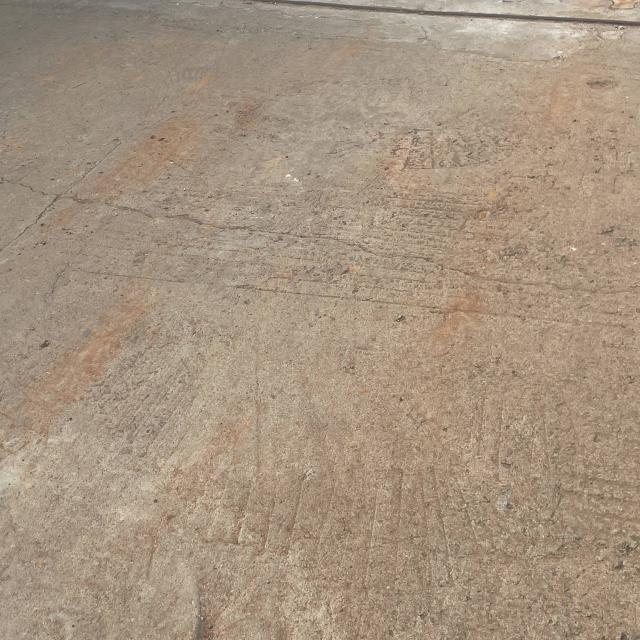D11: (81, 131, 566, 327)
D40: (218, 417, 354, 611)
